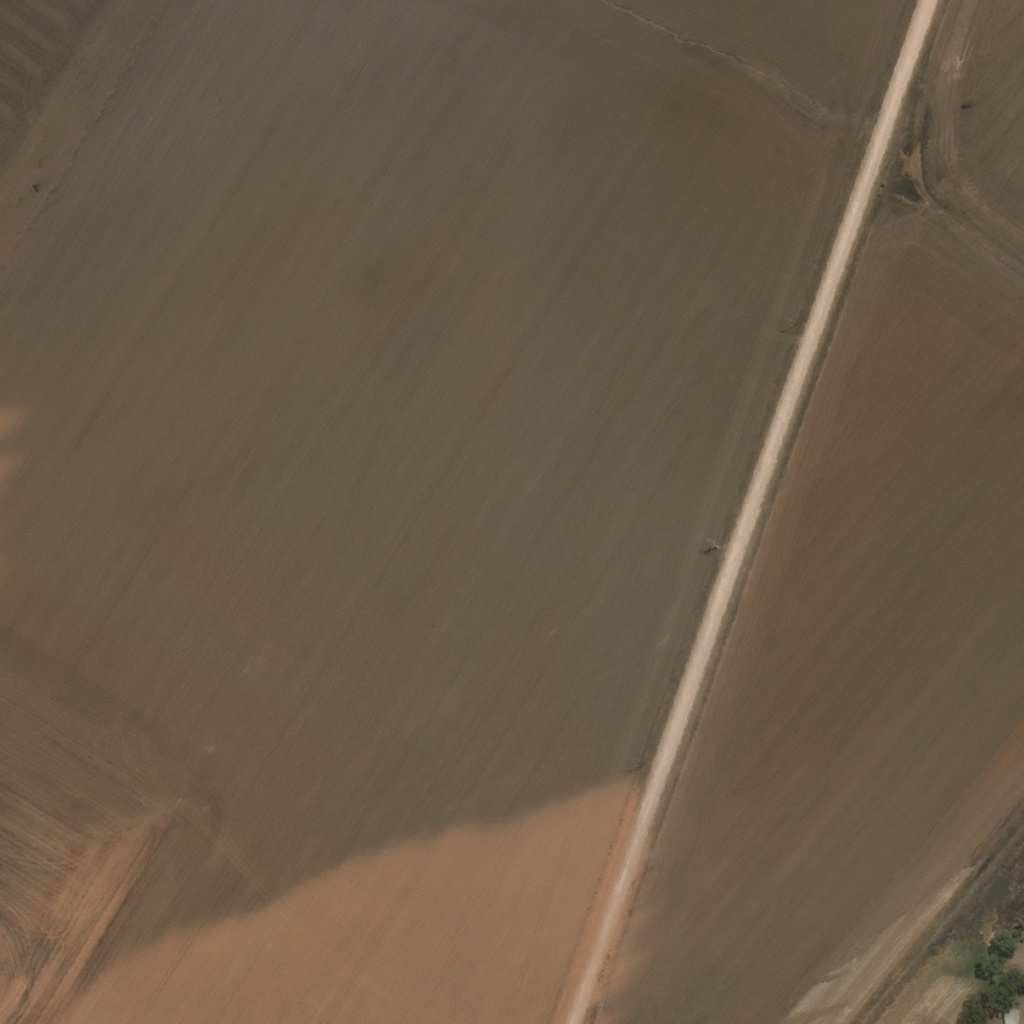0 no-damage: (1004, 1007, 1015, 1023)
